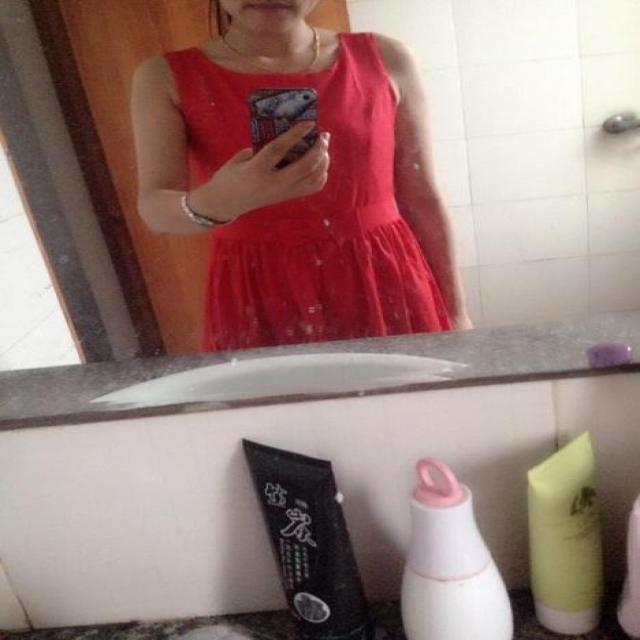short-sleeve-dress: (106, 40, 512, 365)
